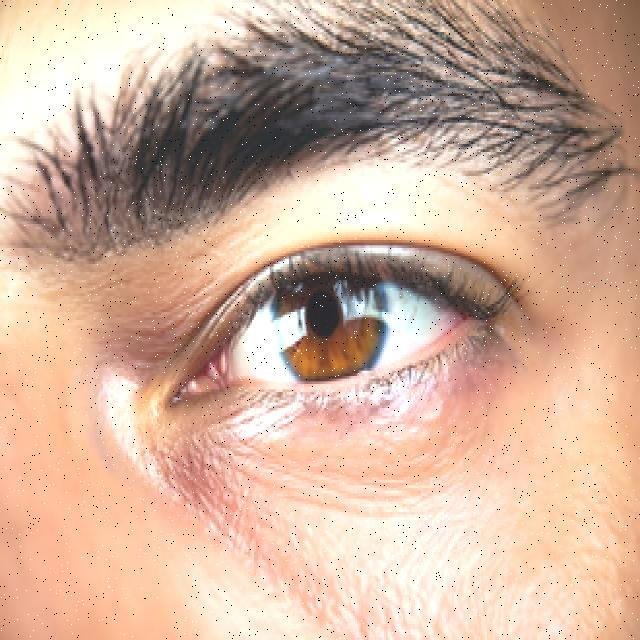Normal: (109, 177, 550, 514)
